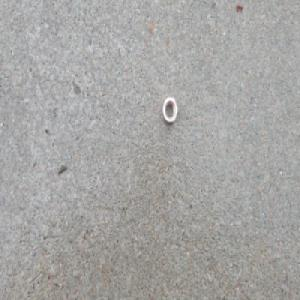Nut: (161, 95, 178, 124)
